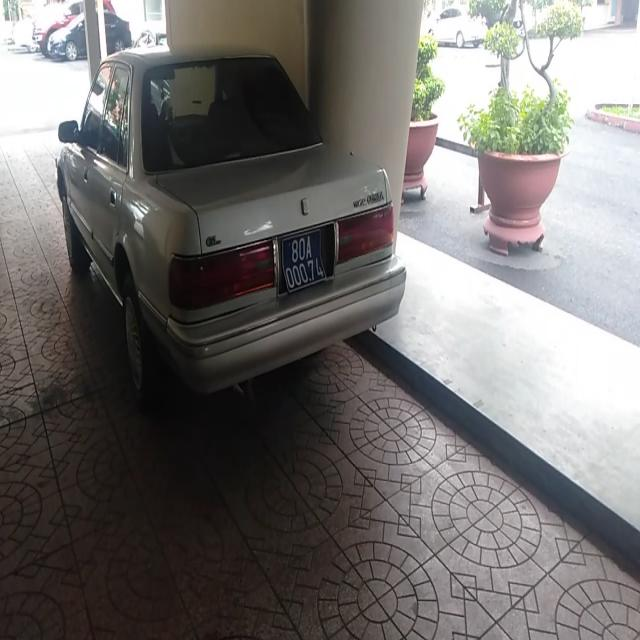bien_xanh: (280, 224, 326, 291)
